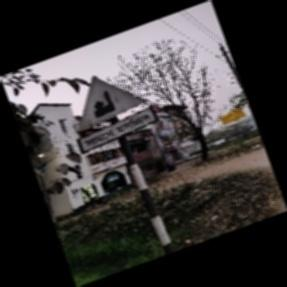Mosque in front: (73, 71, 163, 155)
